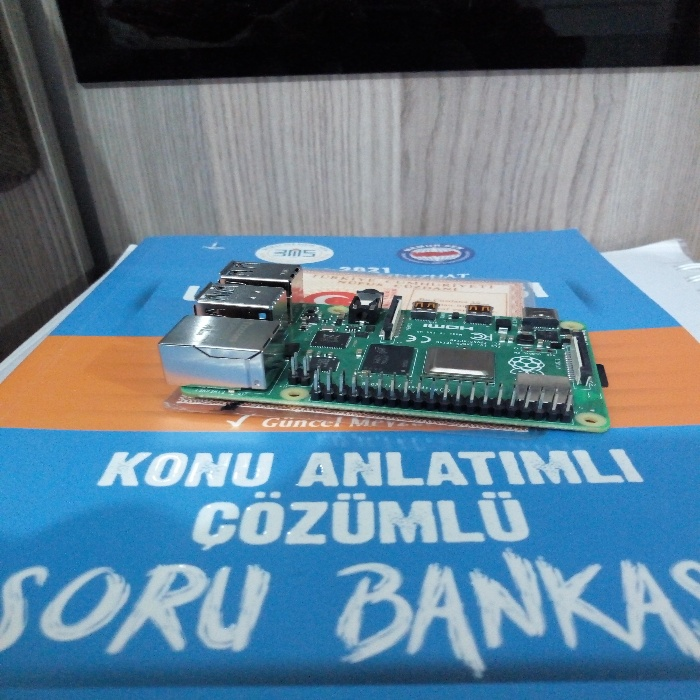raspberry: (160, 244, 645, 428)
